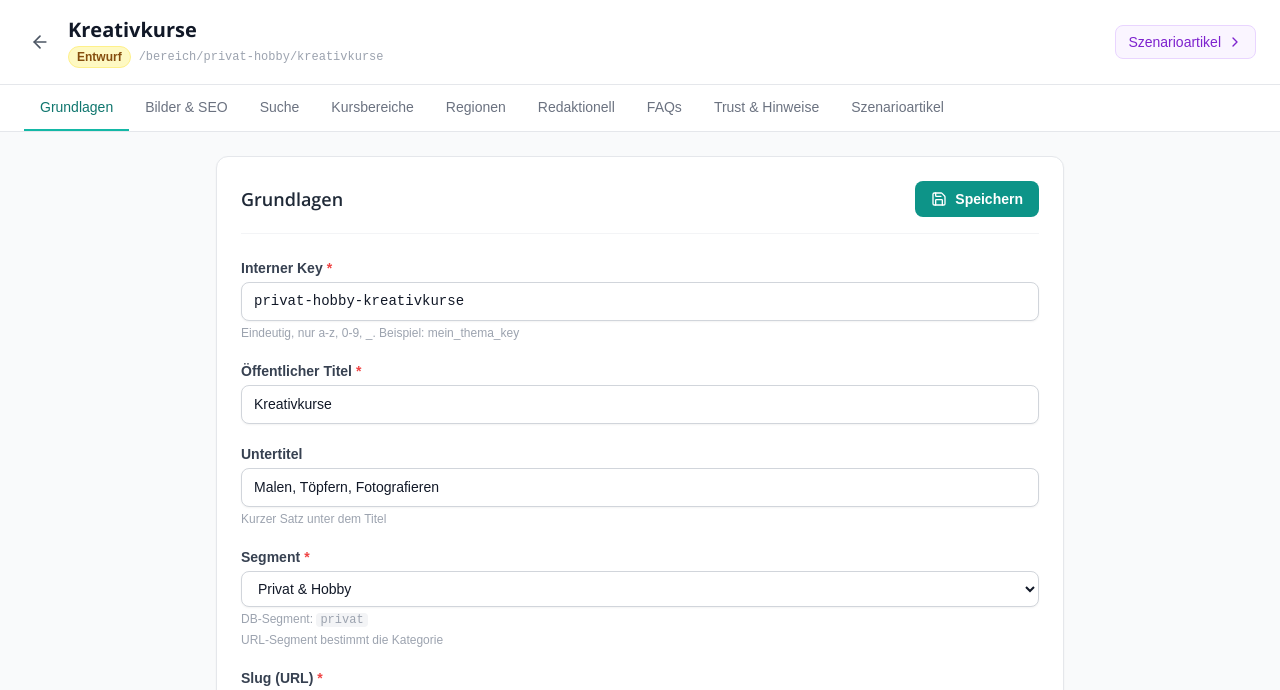
Test: section_titles: alle geforderten Überschriften sind bearbeitbar › zeigt den gespeicherten Wert von scenarios_subheading
The width and height of the screenshot is (1280, 690).
Click the button "Trust & Hinweise": (767, 108) [698,85,835,131]
(page scrolled)
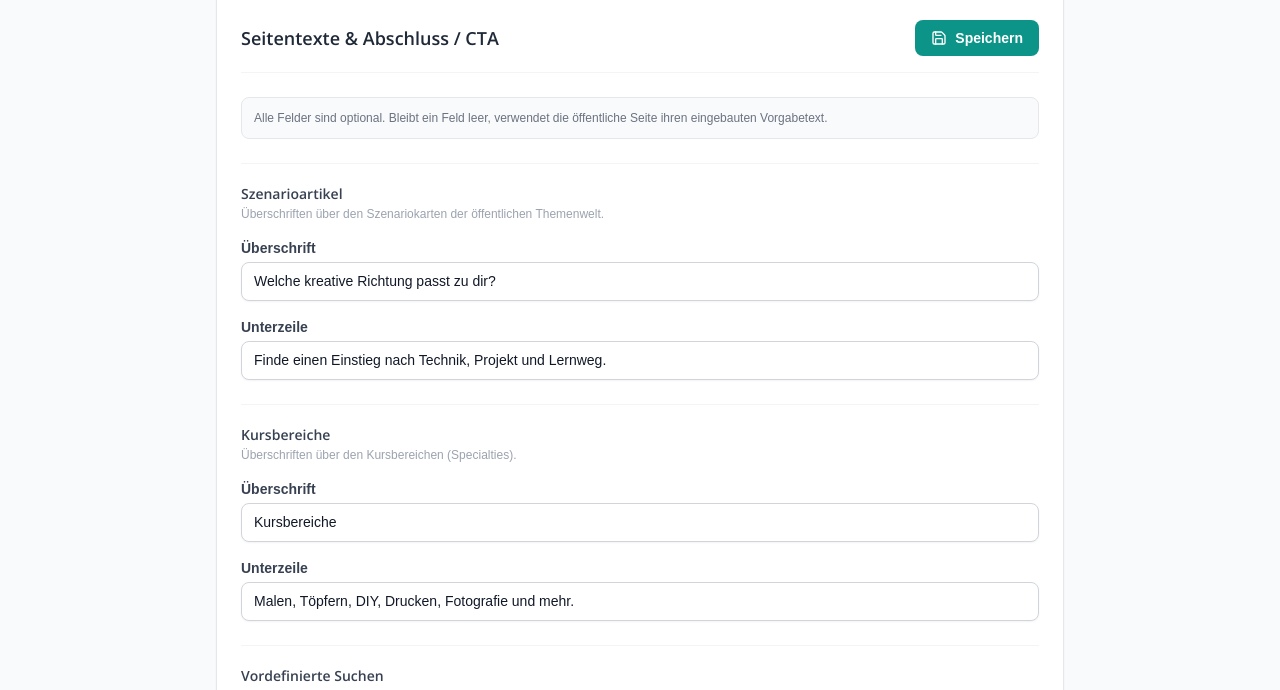
Now the 2nd field holds "Finde einen Einstieg nach Technik, Projekt und Lernweg.", box [241,341,1039,380]
